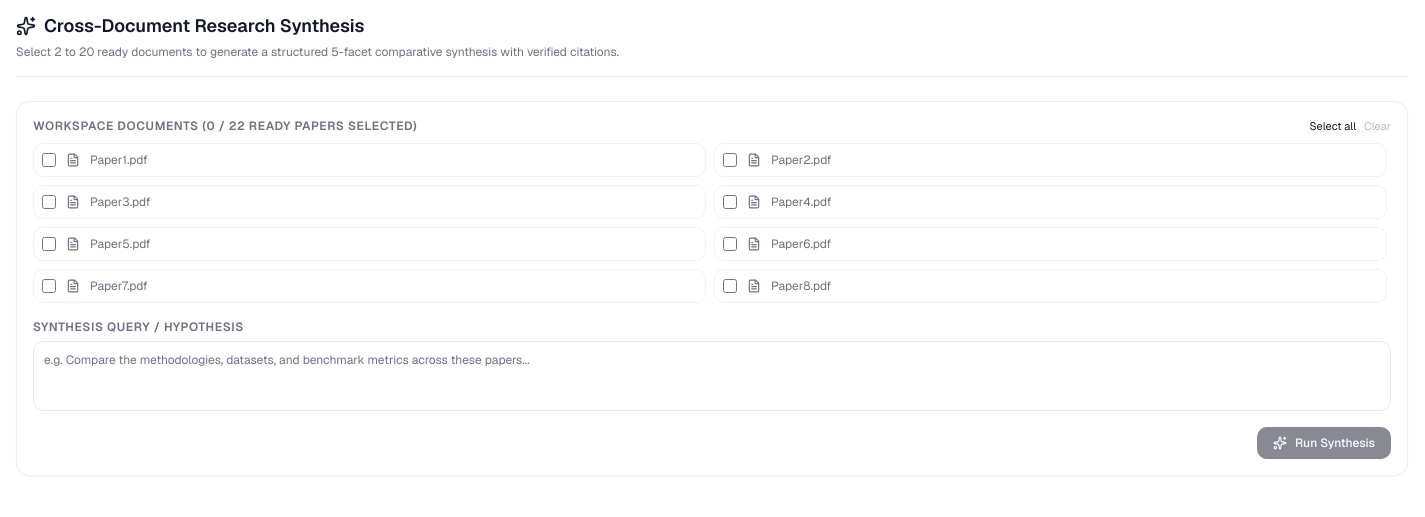
Test: WorkspaceResearchSynthesisPanel › limits Select all to 20 ready documents
The image size is (1425, 517).
Click the button "Select all" at coordinates (1333, 126), box [1309, 118, 1356, 134]
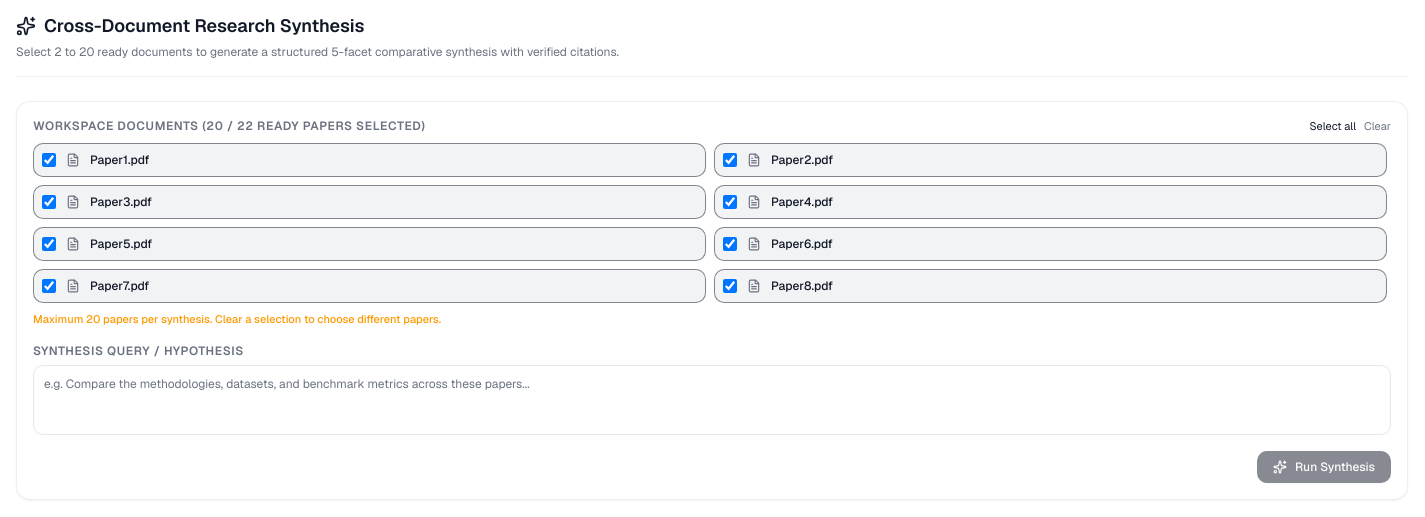
Expected: the text "Workspace Documents (20 / 22 ready papers selected)" is shown, [33, 118, 426, 134]
Expected: the text "Maximum 20 papers per synthesis" is shown, [33, 312, 441, 326]
